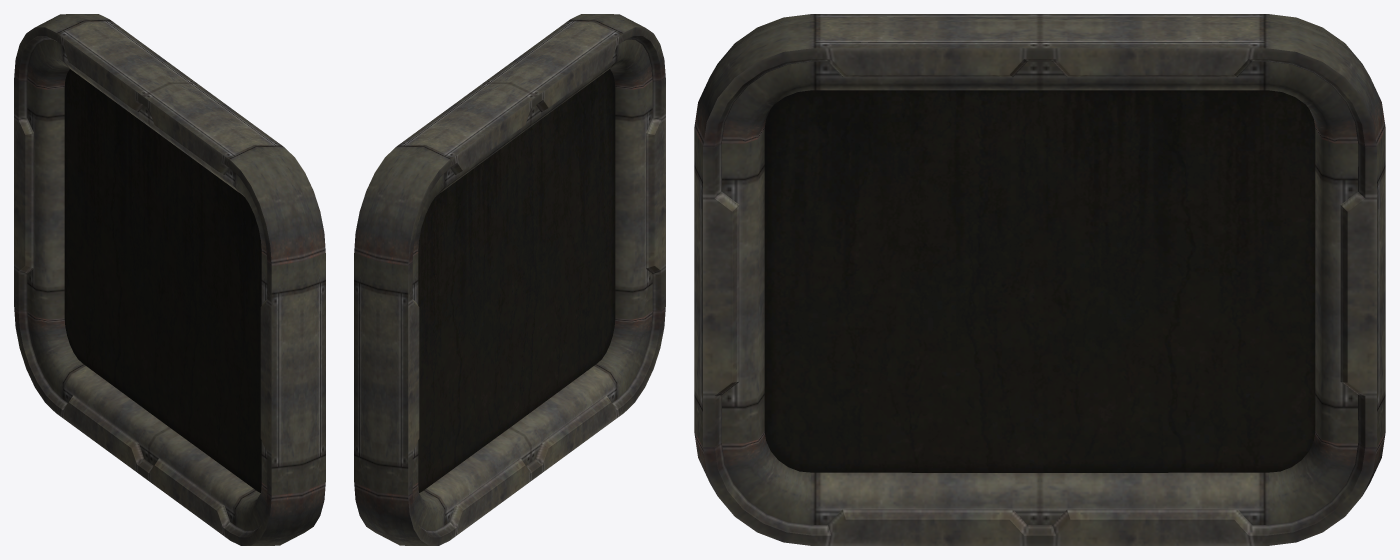
The model's file is pplant_bulkhead_windowframe.dae.
The picture shows the model from 3 angles, left to right: view 1: azimuth 30°, elevation 25°; view 2: azimuth 150°, elevation 25°; view 3: azimuth 270°, elevation 25°; orthographic projection. The views are drawn at different scales.
Visible parts, largest first — view 1: bulkhead_windowframe, glass; view 2: bulkhead_windowframe, glass; view 3: glass, bulkhead_windowframe.
Part boxes in pixels (box(x1,y1,x2,y2)): bulkhead_windowframe: box(14, 14, 325, 545); glass: box(64, 69, 261, 492); bulkhead_windowframe: box(354, 14, 665, 545); glass: box(418, 69, 615, 492); glass: box(764, 90, 1315, 472); bulkhead_windowframe: box(694, 14, 1385, 545).
Bounding box in the file's own units: 0.4087 × 2.84 × 3.46.
